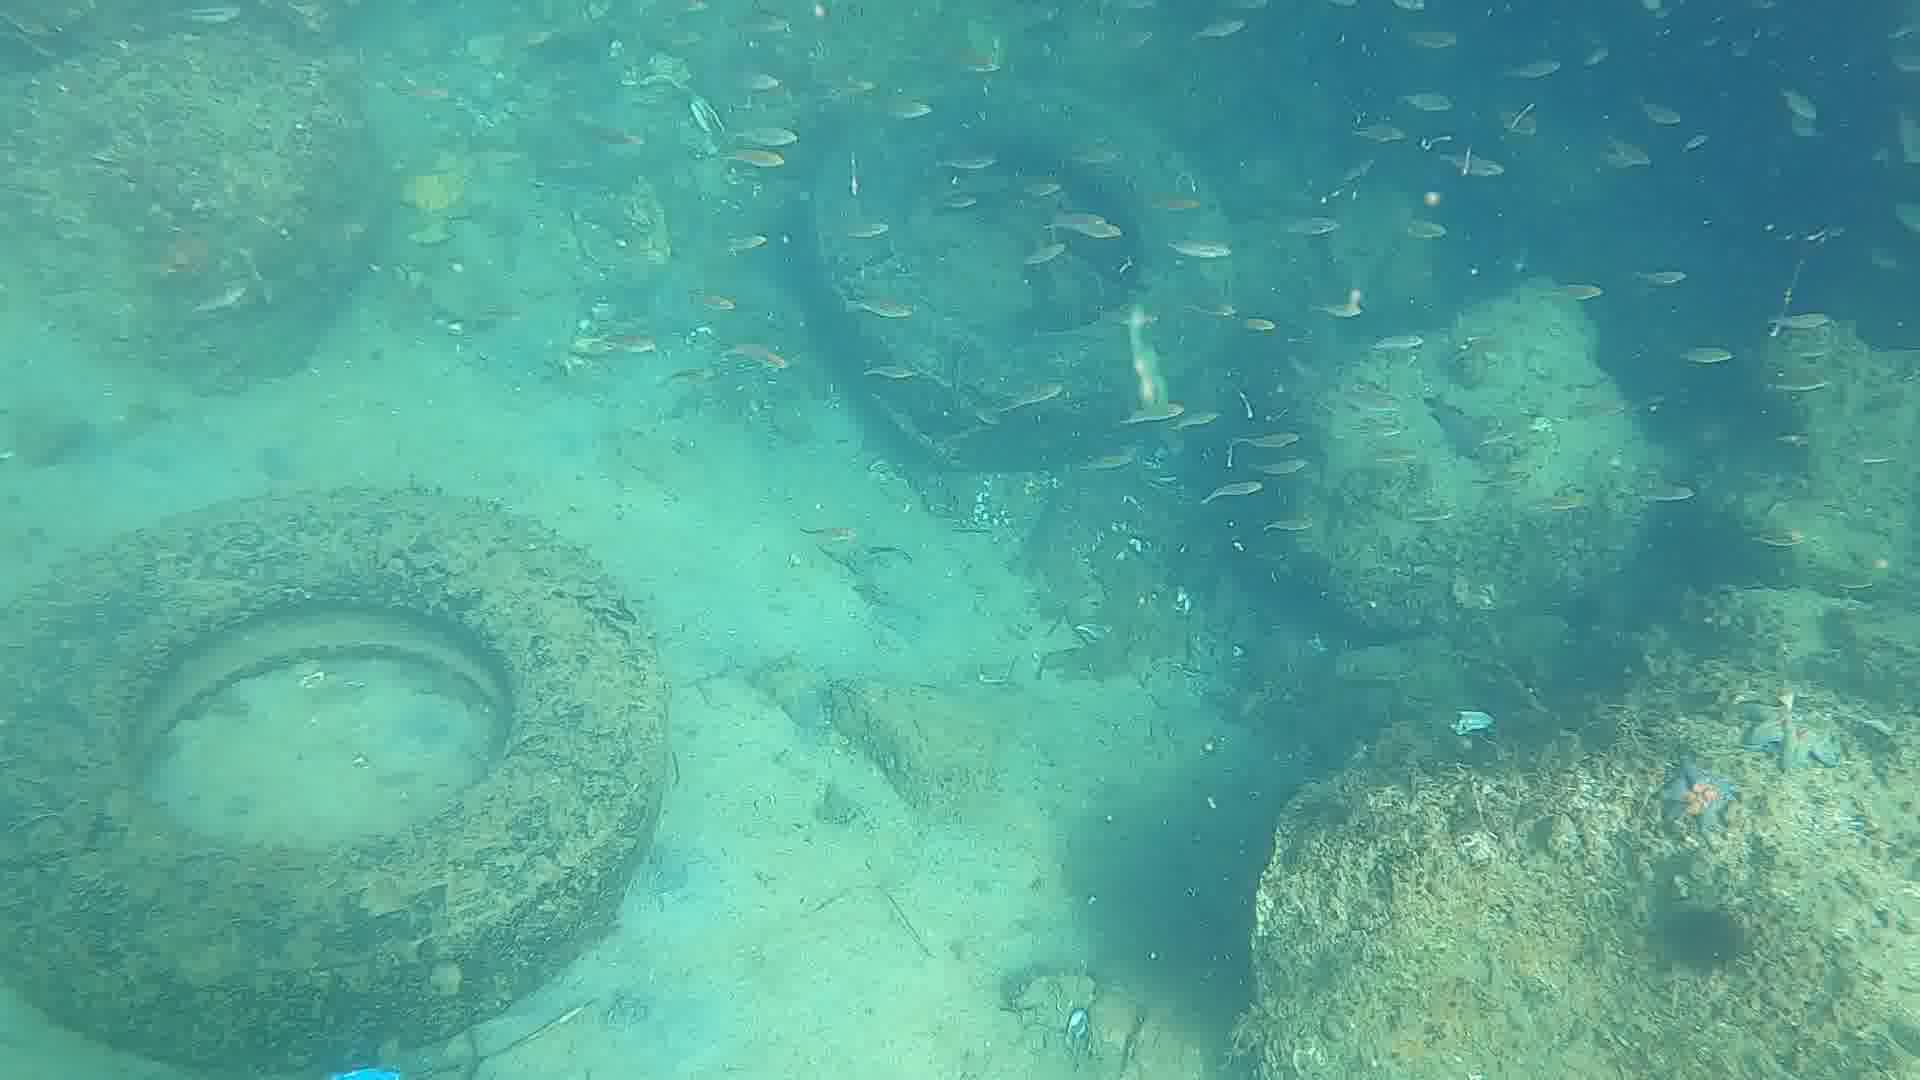tire: (0, 475, 667, 1080), (804, 76, 1249, 471)
